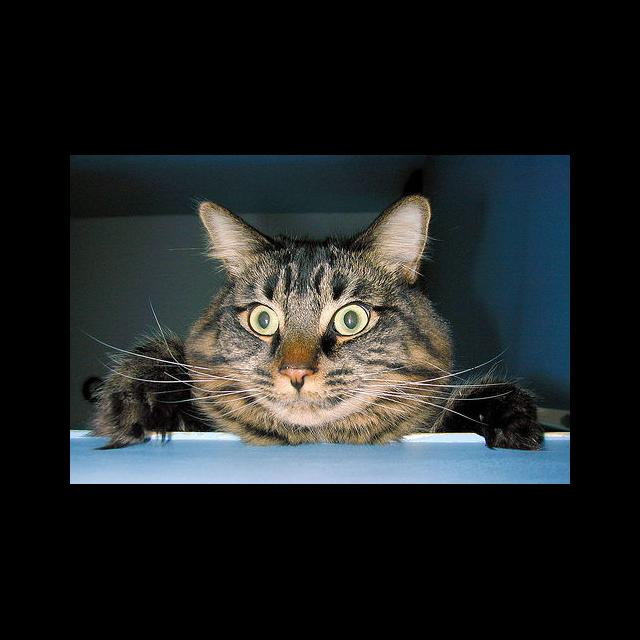animals: (202, 196, 418, 386)
